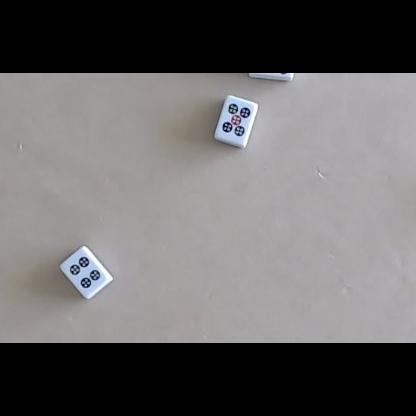4p: (69, 256, 101, 289)
5p: (221, 103, 251, 137)
9p: (255, 73, 290, 74)
